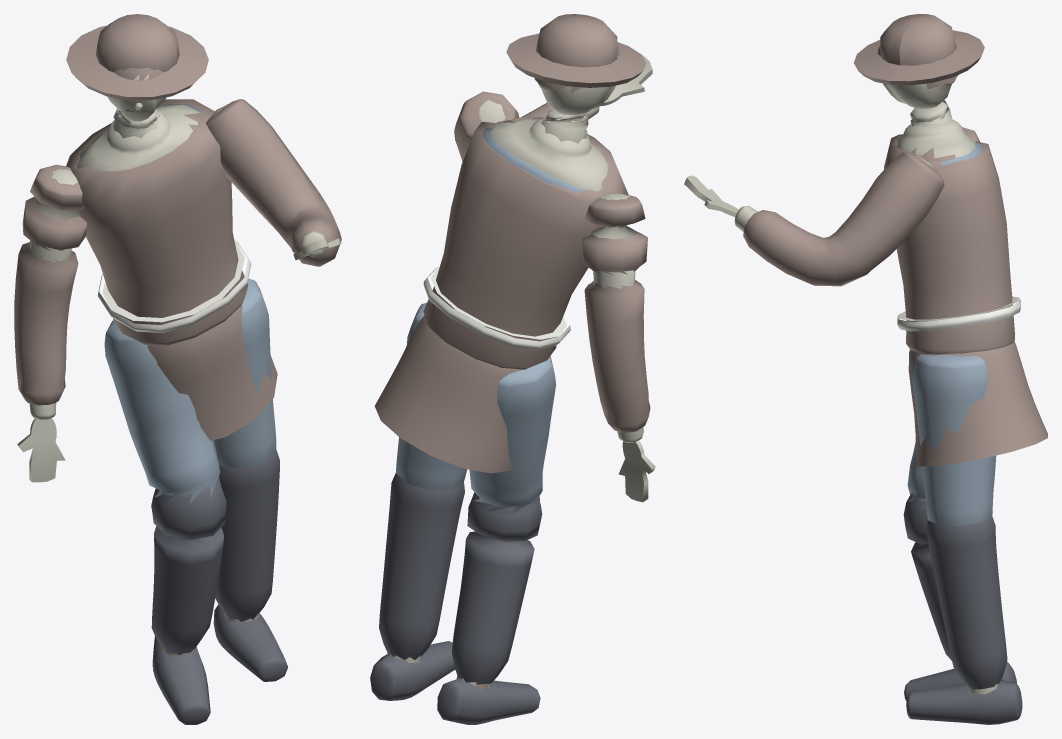
The model's file is undead-horde-and-infected-variants-walker-field-farmer-49d0740e__11998.glb.
The picture shows the model from 3 angles, left to right: view 1: azimuth 30°, elevation 25°; view 2: azimuth 150°, elevation 25°; view 3: azimuth 270°, elevation 25°; orthographic projection. The views are drawn at different scales.
Visible parts, largest first — view 1: walker-field-farmer-leaning; view 2: walker-field-farmer-leaning; view 3: walker-field-farmer-leaning.
Boxes of the visible parts, x1,y1,x2,y2 form: walker-field-farmer-leaning: (14,14,341,724); walker-field-farmer-leaning: (370,14,655,724); walker-field-farmer-leaning: (684,14,1047,724).
Size of the model in its own units: 0.6767 by 1.75 by 0.8754.
